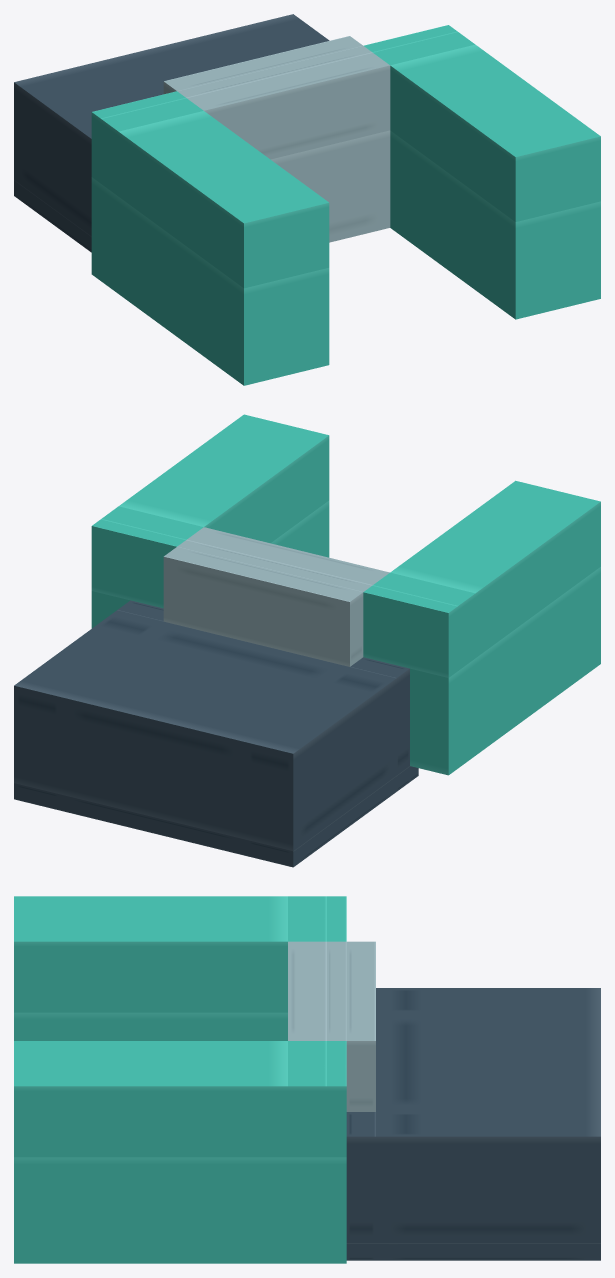
Rendered from sc_pickup_tractor_beam.obj.
The picture shows the model from 3 angles, top to bottom: view 1: azimuth 30°, elevation 25°; view 2: azimuth 150°, elevation 25°; view 3: azimuth 270°, elevation 25°; orthographic projection. The views are drawn at different scales.
Bounding box in the file's own units: 6.9 × 3.3 × 9.
Materials: 1 (1 with a texture image).
